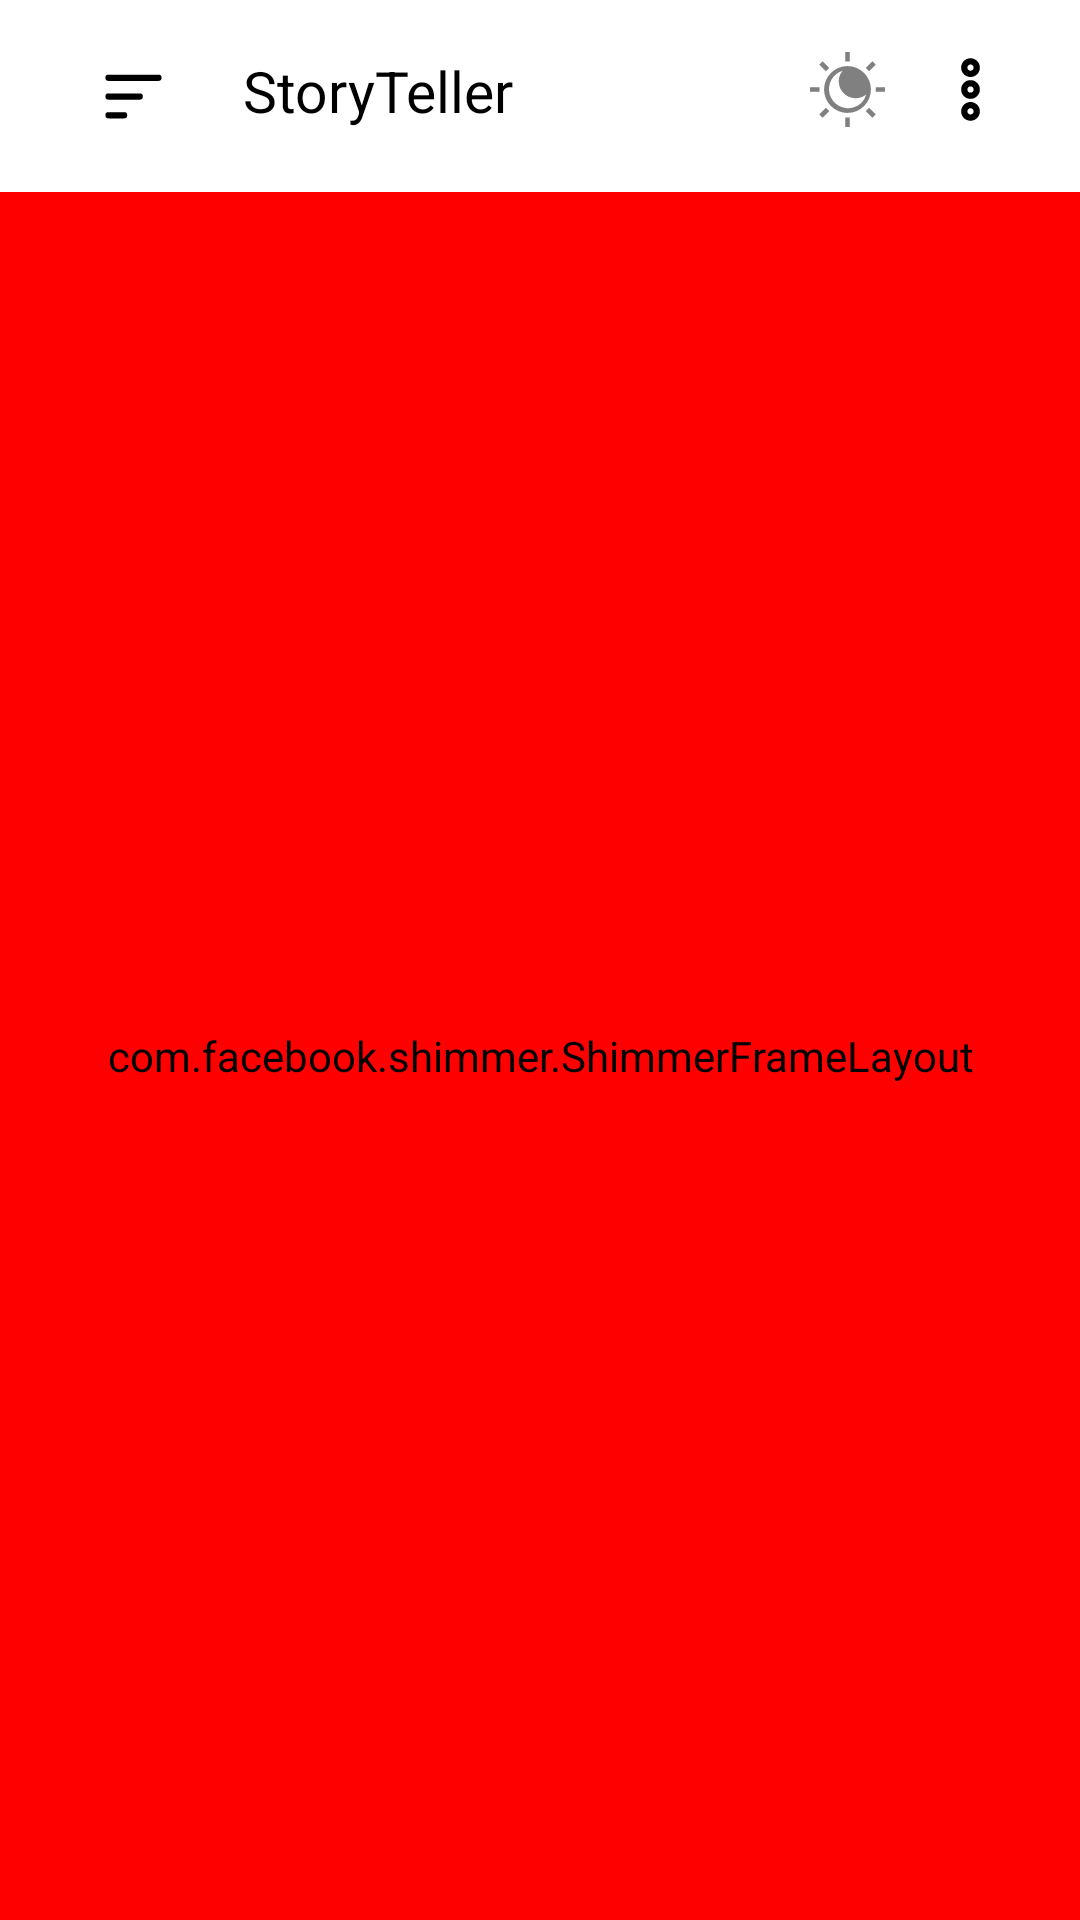

Where icons sit on this 1080w x 1920h app screen, as [x1,y1,x2,y2]:
dots: [961,58,980,121]
menu: [105,74,162,119]
night symbolic: [810,52,885,127]
